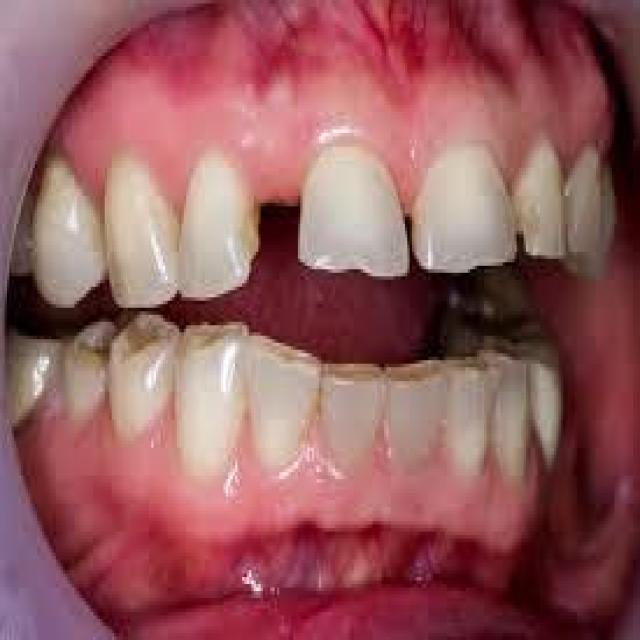Tooth: (414, 143, 517, 273), (298, 154, 407, 276), (177, 157, 261, 297), (102, 157, 179, 308), (175, 322, 247, 472), (33, 161, 105, 308), (249, 336, 319, 469), (109, 315, 179, 444), (321, 364, 386, 472), (512, 136, 568, 259), (389, 360, 447, 472), (445, 360, 498, 476), (63, 322, 119, 423), (489, 360, 528, 479), (566, 147, 603, 262)
